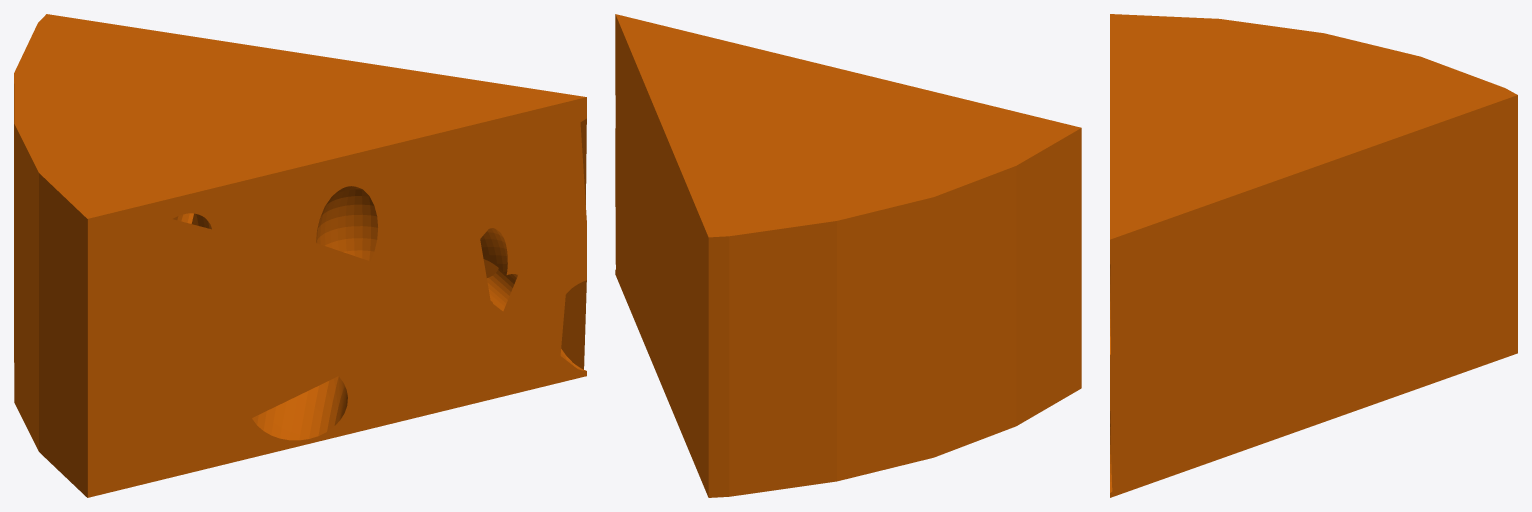
Rendered from Cheese.obj.
The picture shows the model from 3 angles, left to right: view 1: azimuth 30°, elevation 25°; view 2: azimuth 150°, elevation 25°; view 3: azimuth 270°, elevation 25°; orthographic projection. The views are drawn at different scales.
Visible parts, largest first — view 1: Cheese; view 2: Cheese; view 3: Cheese.
Part boxes in pixels (x1,y1,x2,y2): Cheese: (14,14,586,497); Cheese: (615,14,1081,497); Cheese: (1110,14,1517,497).
Bounding box in the file's own units: 1.3 × 0.6955 × 0.9948.
